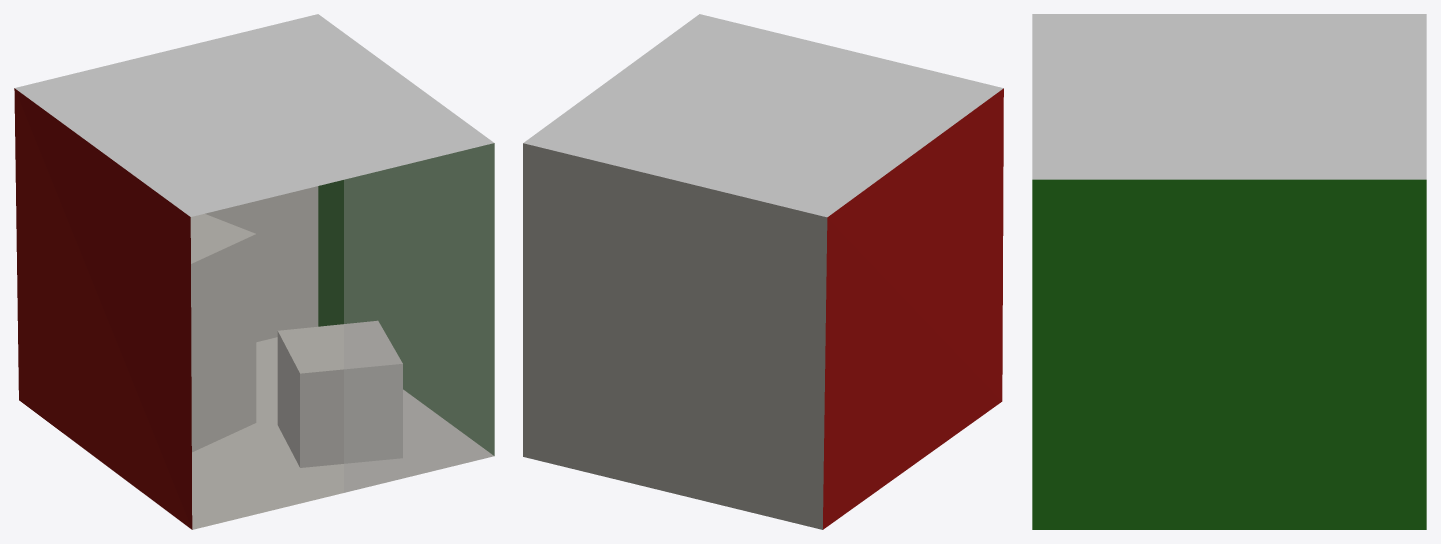
The model's file is CornellBox.obj.
3 renders of one model, left to right at view 1: azimuth 30°, elevation 25°; view 2: azimuth 150°, elevation 25°; view 3: azimuth 270°, elevation 25°, orthographic. The views are drawn at different scales.
Visible parts, largest first — view 1: leftWall, ceiling, rightWall, floor, shortBox, backWall; view 2: backWall, leftWall, ceiling; view 3: rightWall, ceiling.
Boxes of the visible parts, x1=… form: leftWall: x1=14, y1=88, x2=494, y2=529; ceiling: x1=15, y1=14, x2=493, y2=216; rightWall: x1=318, y1=143, x2=494, y2=455; floor: x1=192, y1=337, x2=493, y2=529; shortBox: x1=190, y1=213, x2=256, y2=452; backWall: x1=205, y1=186, x2=318, y2=342; backWall: x1=523, y1=143, x2=827, y2=529; leftWall: x1=823, y1=88, x2=1003, y2=529; ceiling: x1=523, y1=14, x2=1003, y2=217; rightWall: x1=1032, y1=179, x2=1426, y2=529; ceiling: x1=1032, y1=14, x2=1426, y2=179.
Size of the model in its own units: 2.02 by 1.99 by 2.03.
